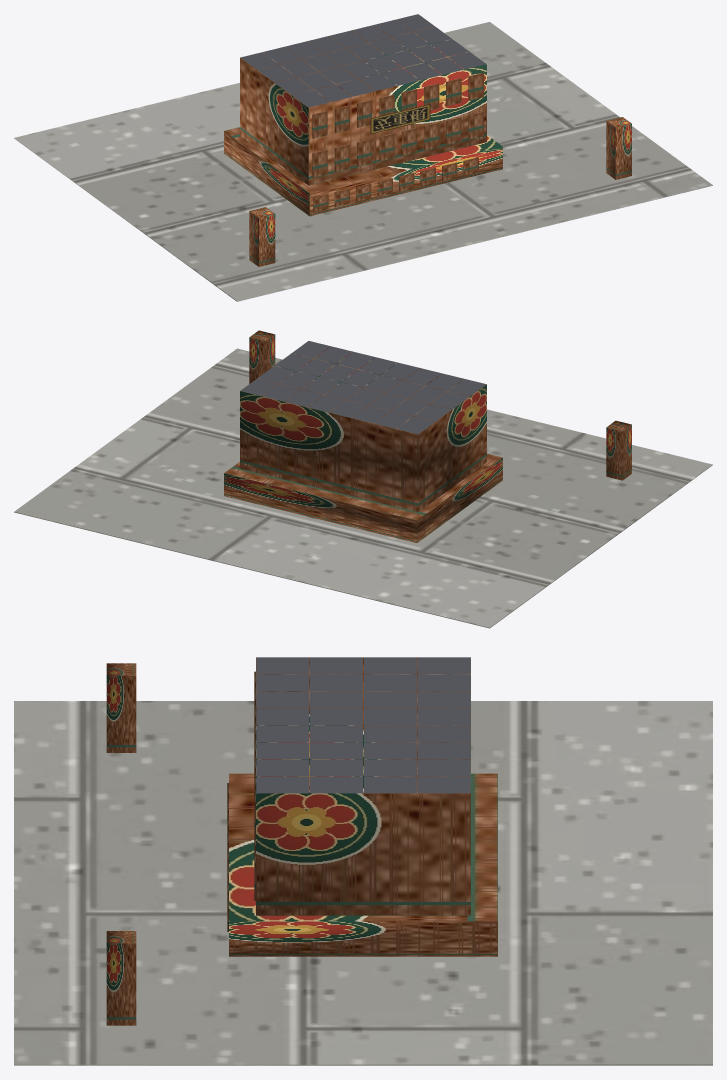
The picture shows the model from 3 angles, top to bottom: view 1: azimuth 30°, elevation 25°; view 2: azimuth 150°, elevation 25°; view 3: azimuth 270°, elevation 25°; orthographic projection. The views are drawn at different scales.
Parts seen in each view (by area): view 1: 11140_02_04626_025_01_L2__base, 11140_02_04626_025_02_L2__body, 11140_02_04626_025_03_L2__roof, 11140_02_04626_025_05_L2__openings, 11140_02_04626_025_06_L2__green, 11140_02_04626_025_04_L2__sign; view 2: 11140_02_04626_025_01_L2__base, 11140_02_04626_025_02_L2__body, 11140_02_04626_025_03_L2__roof, 11140_02_04626_025_06_L2__green; view 3: 11140_02_04626_025_01_L2__base, 11140_02_04626_025_02_L2__body, 11140_02_04626_025_03_L2__roof, 11140_02_04626_025_06_L2__green, 11140_02_04626_025_05_L2__openings.
Boxes of the visible parts, left/top/right/bottom form: 11140_02_04626_025_01_L2__base: left=14, top=22, right=712, bottom=301; 11140_02_04626_025_02_L2__body: left=224, top=19, right=502, bottom=216; 11140_02_04626_025_03_L2__roof: left=240, top=14, right=486, bottom=107; 11140_02_04626_025_05_L2__openings: left=312, top=72, right=483, bottom=212; 11140_02_04626_025_06_L2__green: left=249, top=117, right=631, bottom=266; 11140_02_04626_025_04_L2__sign: left=370, top=104, right=430, bottom=133; 11140_02_04626_025_01_L2__base: left=14, top=348, right=712, bottom=628; 11140_02_04626_025_02_L2__body: left=224, top=346, right=502, bottom=542; 11140_02_04626_025_03_L2__roof: left=240, top=341, right=486, bottom=433; 11140_02_04626_025_06_L2__green: left=249, top=330, right=631, bottom=480; 11140_02_04626_025_01_L2__base: left=14, top=701, right=712, bottom=1065; 11140_02_04626_025_02_L2__body: left=229, top=657, right=497, bottom=956; 11140_02_04626_025_03_L2__roof: left=256, top=657, right=470, bottom=793; 11140_02_04626_025_06_L2__green: left=106, top=663, right=136, bottom=1025; 11140_02_04626_025_05_L2__openings: left=227, top=671, right=255, bottom=931.
Size of the model in its own units: 64 by 13.02 by 52.
Materials: 5 (5 with a texture image).
